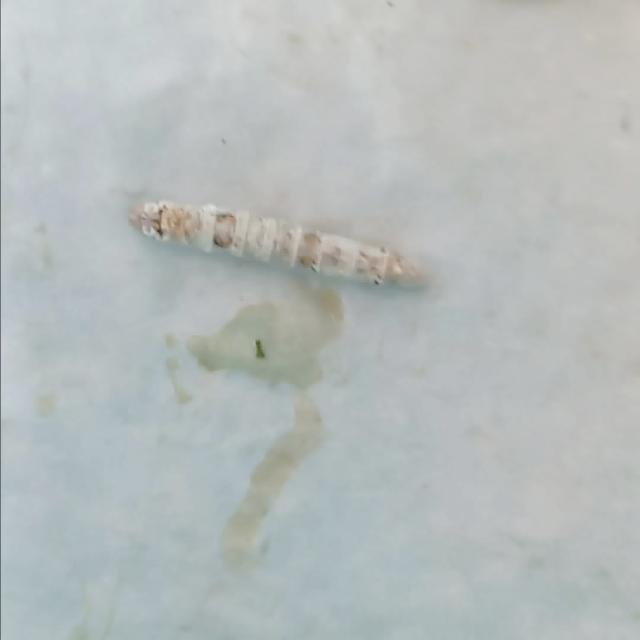Grasserie: (113, 169, 452, 333)
